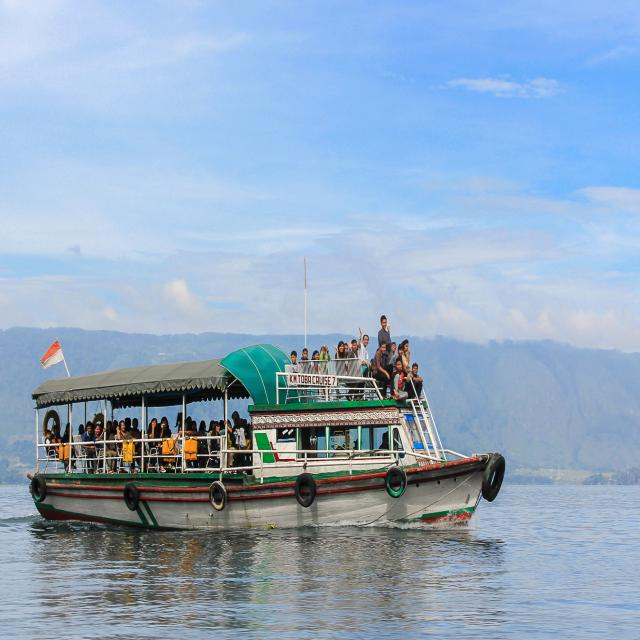houseboat: (33, 301, 499, 524)
